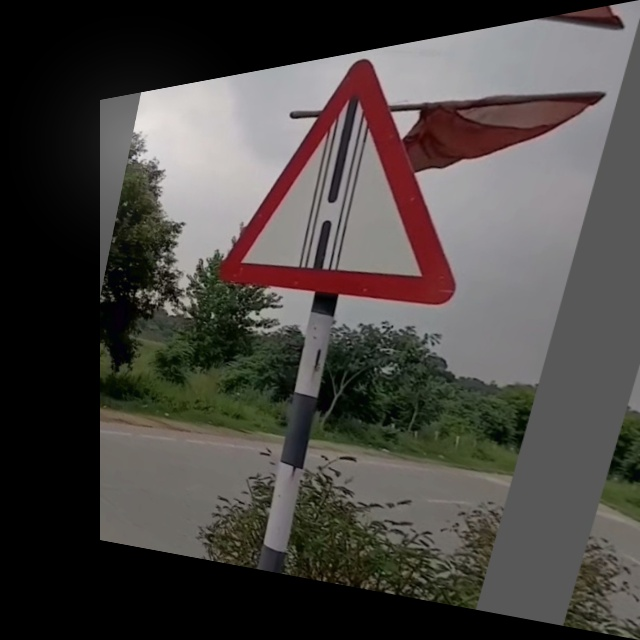Gap_in_Median: (222, 25, 507, 320)
